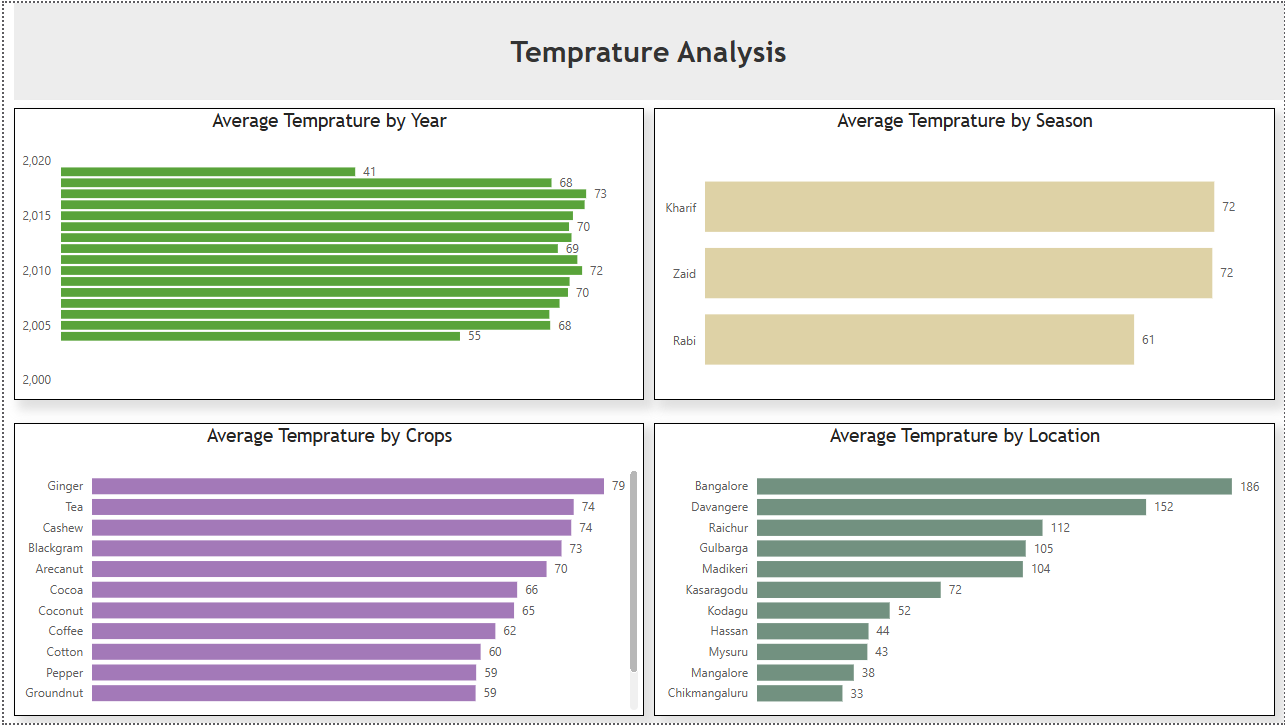

The page's visual inventory and layout, read from the dashboard file:
{"tool":"powerbi","page":{"name":"Temprature Analysis","canvas":[1280,720],"ordinal":1},"visuals":[{"type":"shape","box":[9.7,0,1270.3,97.3],"z":0},{"type":"barChart","title":"Average Temprature by Year","fields":{"Category":["AGRICULTURE.YEAR"],"Y":["Avg(AGRICULTURE.TEMPERATURE)"]},"box":[9.7,105,630.3,291.8],"z":1000},{"type":"barChart","title":"Average Temprature by Season","fields":{"Category":["AGRICULTURE.SEASON"],"Y":["Avg(AGRICULTURE.TEMPERATURE)"]},"box":[649.7,105,621.5,291.8],"z":2000},{"type":"barChart","title":"Average Temprature by Crops","fields":{"Category":["AGRICULTURE.CROPS"],"Y":["Avg(AGRICULTURE.TEMPERATURE)"]},"box":[9.7,420.2,630.3,292.8],"z":3000},{"type":"barChart","title":"Average Temprature by Location","fields":{"Category":["AGRICULTURE.LOCATION"],"Y":["Avg(AGRICULTURE.TEMPERATURE)"]},"box":[649.7,420.2,621.5,292.8],"z":4000}]}

Visuals, with their boxes in screenshot pixels (x1, y1, x2, y2), scaled from the page's 1280x720 canvas onto the 1285x725 screenshot:
shape: (x1=10, y1=0, x2=1284, y2=98)
"Average Temprature by Year" barChart: (x1=10, y1=106, x2=642, y2=400)
"Average Temprature by Season" barChart: (x1=652, y1=106, x2=1276, y2=400)
"Average Temprature by Crops" barChart: (x1=10, y1=423, x2=642, y2=718)
"Average Temprature by Location" barChart: (x1=652, y1=423, x2=1276, y2=718)
